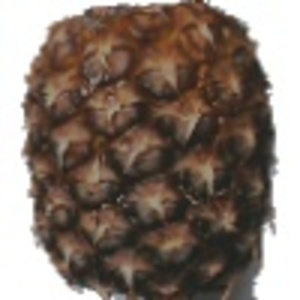abacaxi: (16, 1, 285, 297)
